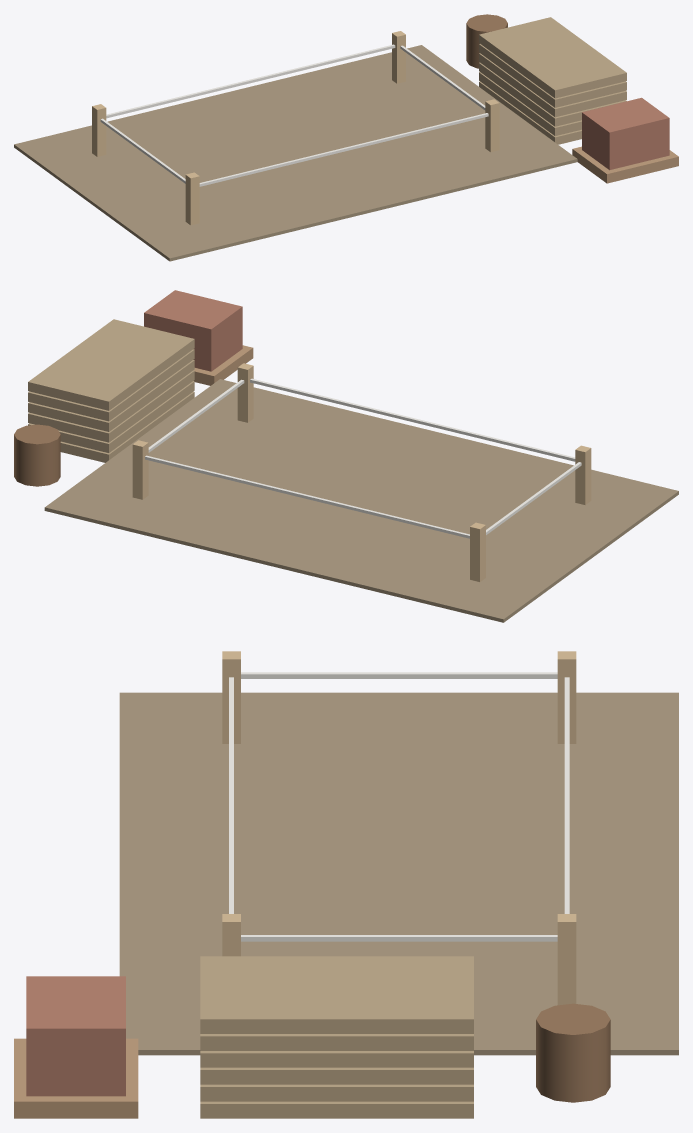
File: garden_shed_site_0.glb
The picture shows the model from 3 angles, top to bottom: view 1: azimuth 30°, elevation 25°; view 2: azimuth 150°, elevation 25°; view 3: azimuth 270°, elevation 25°; orthographic projection. The views are drawn at different scales.
Visible parts, largest first — view 1: body; view 2: body; view 3: body.
Boxes of the visible parts, x1,y1,x2,y2 form: body: (14, 14, 678, 261); body: (14, 290, 678, 622); body: (14, 651, 678, 1118).
Bounding box in the file's own units: 1.2 × 0.1316 × 0.8.
